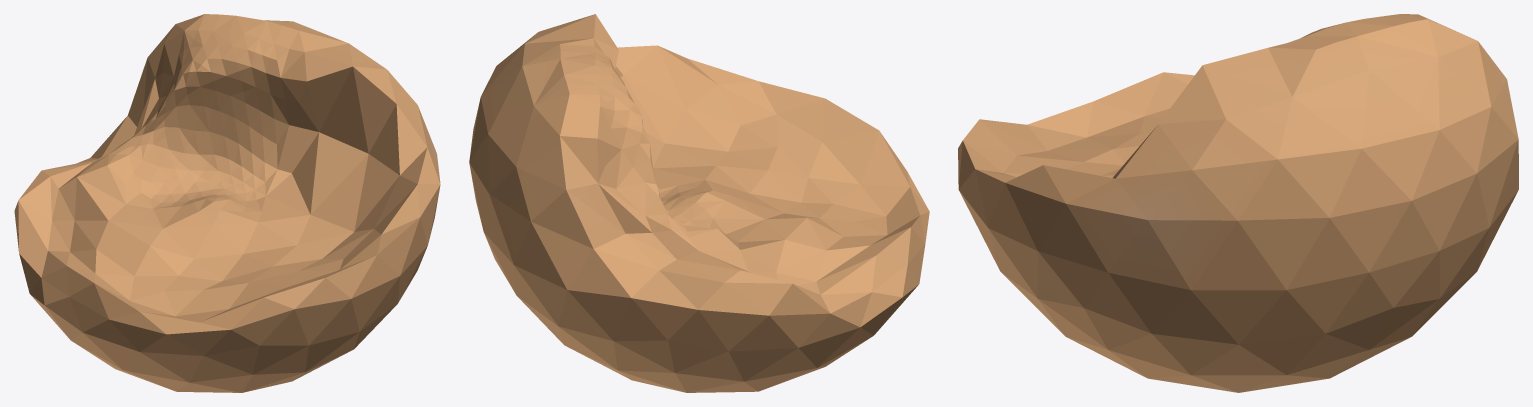
Rendered from Egg.fbx.
The picture shows the model from 3 angles, left to right: view 1: azimuth 30°, elevation 25°; view 2: azimuth 150°, elevation 25°; view 3: azimuth 270°, elevation 25°; orthographic projection. The views are drawn at different scales.
Visible parts, largest first — view 1: Icosphere; view 2: Icosphere; view 3: Icosphere.
Boxes of the visible parts, left/top/right/bottom form: Icosphere: left=14, top=14, right=440, bottom=392; Icosphere: left=469, top=14, right=929, bottom=392; Icosphere: left=958, top=14, right=1518, bottom=392.
Bounding box in the file's own units: 1886 × 1459 × 1903.
